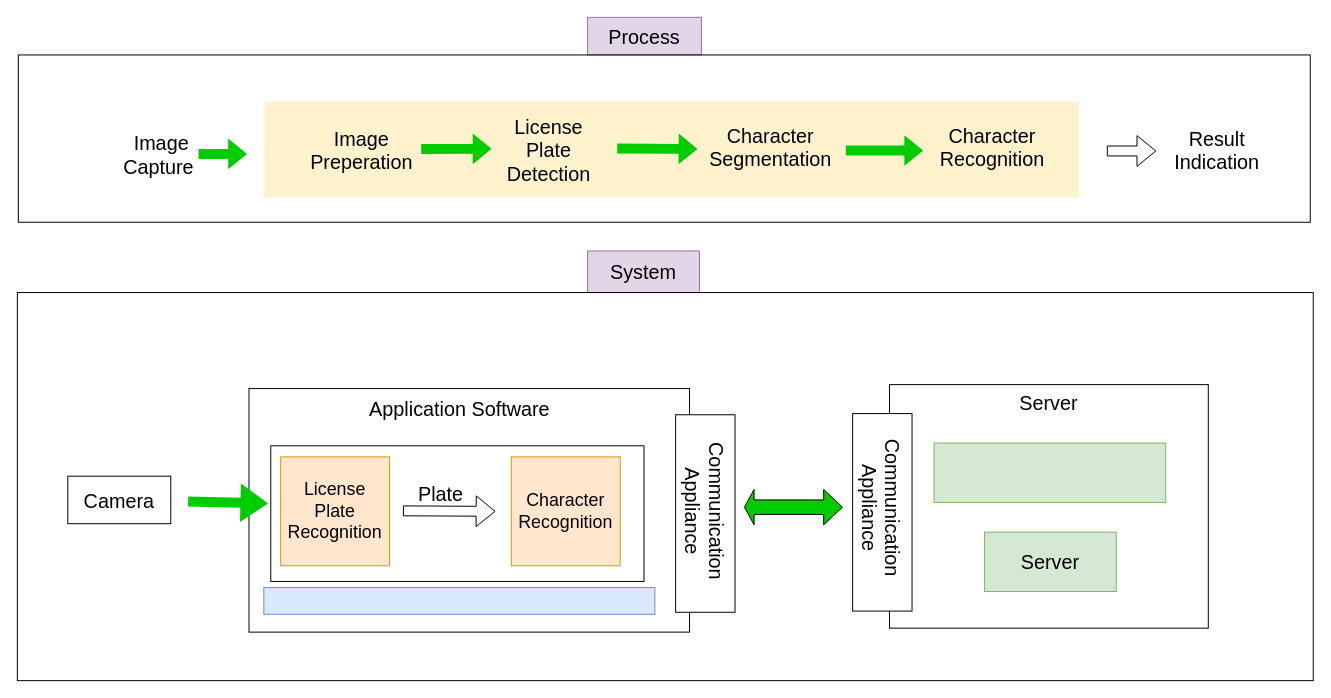
This 1331x698 diagram has some shape labels left out. Here are the shapes that lost their labels. From the top down, the box of each, then its label:
(933, 442, 1166, 502): Collaboration With External System
(263, 587, 655, 614): OS
